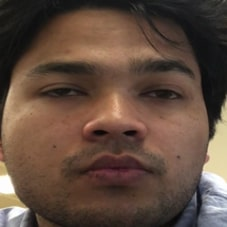drowsy: (24, 43, 205, 197)
